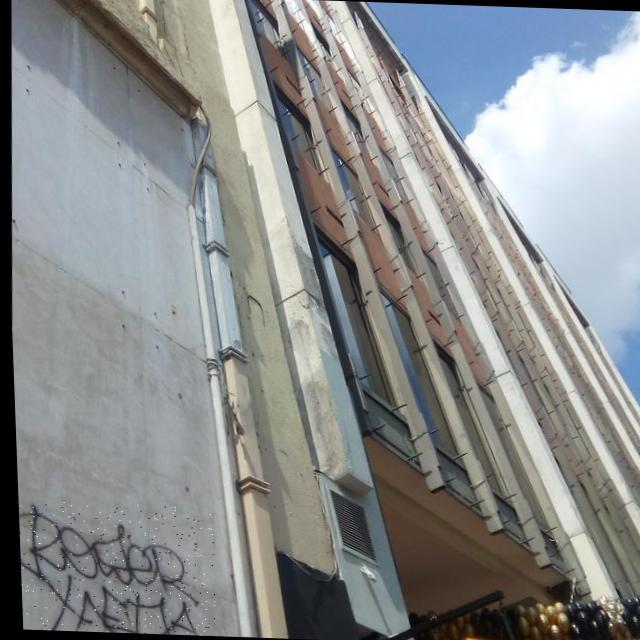-: (15, 499, 214, 635)
